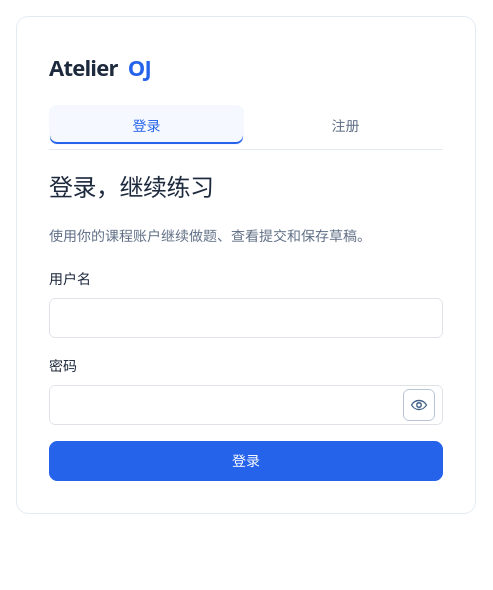
Scenario: maps server validation fields to their inputs
The width and height of the screenshot is (493, 590).
Type "alice" into the field labelled "用户名".
click(246, 318); type("alice")  # box 49,298 -> 443,338
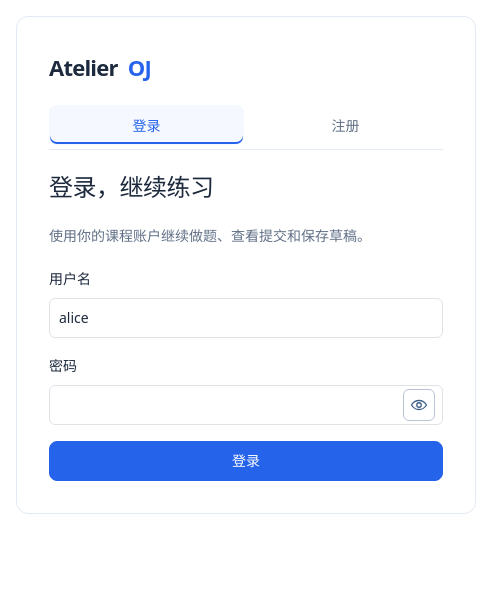
Type "secret1" into the password field labelled "密码".
click(246, 405); type("secret1")  # box 49,385 -> 443,425
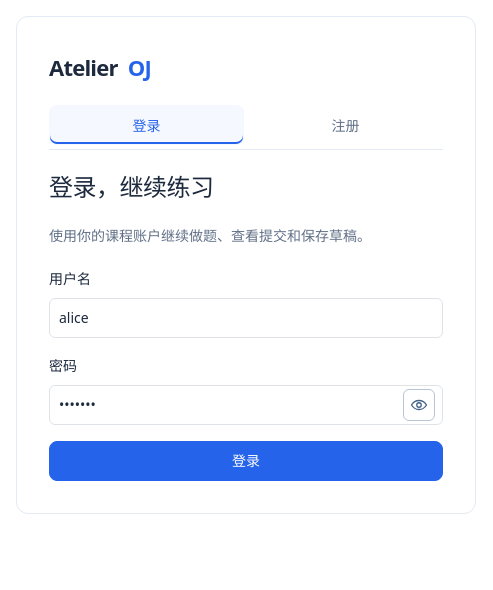
Click the button "登录".
click(246, 461)  # box 49,441 -> 443,481
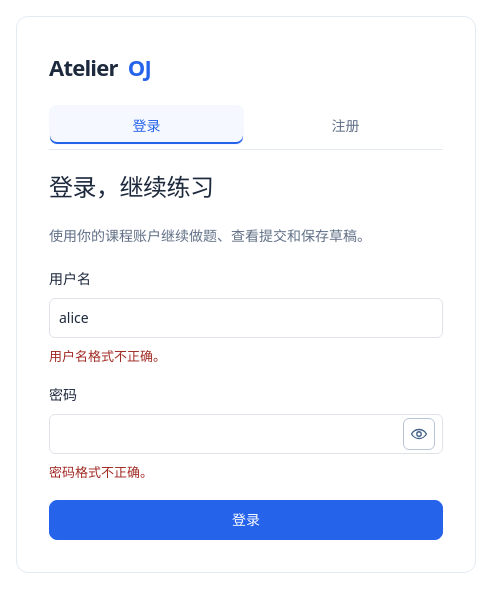
Now the text "用户名格式不正确。" is shown, box 49,347 -> 166,365
Now the text "密码格式不正确。" is shown, box 49,463 -> 153,481
